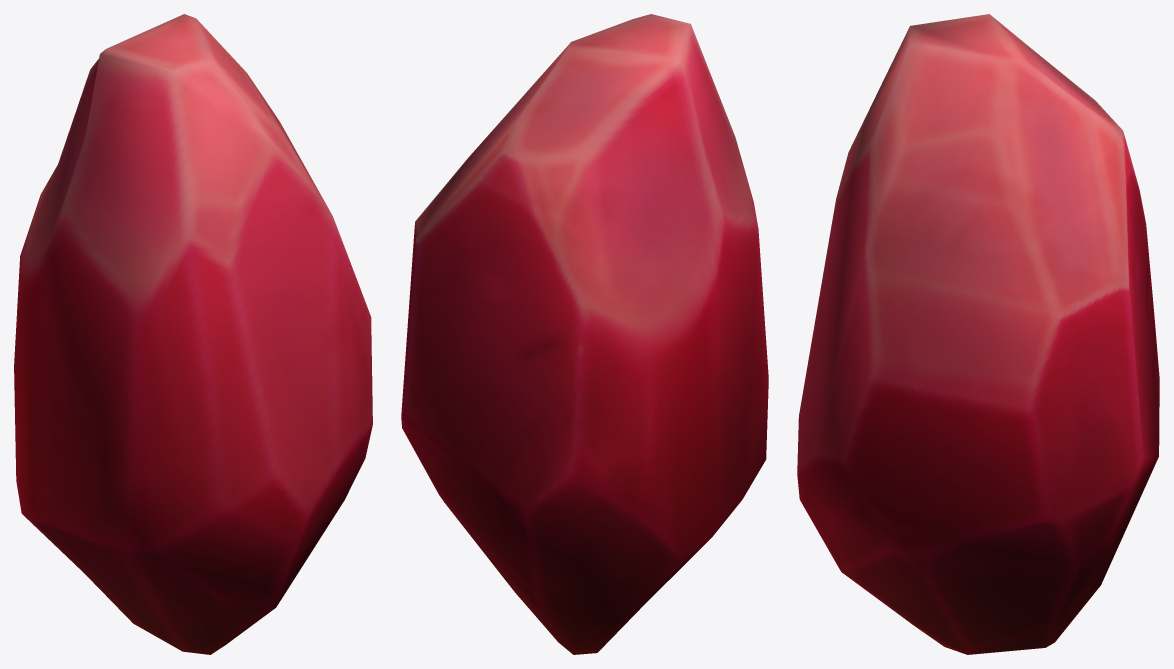
Rendered from SM_Gem_Ruby_009.fbx.
The picture shows the model from 3 angles, left to right: view 1: azimuth 30°, elevation 25°; view 2: azimuth 150°, elevation 25°; view 3: azimuth 270°, elevation 25°; orthographic projection. The views are drawn at different scales.
Visible parts, largest first — view 1: SM_Gem_Ruby_009; view 2: SM_Gem_Ruby_009; view 3: SM_Gem_Ruby_009.
Part boxes in pixels (left/top/right/bottom): SM_Gem_Ruby_009: left=14, top=14, right=372, bottom=654; SM_Gem_Ruby_009: left=401, top=14, right=768, bottom=654; SM_Gem_Ruby_009: left=797, top=14, right=1159, bottom=654.
Bounding box in the file's own units: 16.29 × 31.07 × 17.07.
